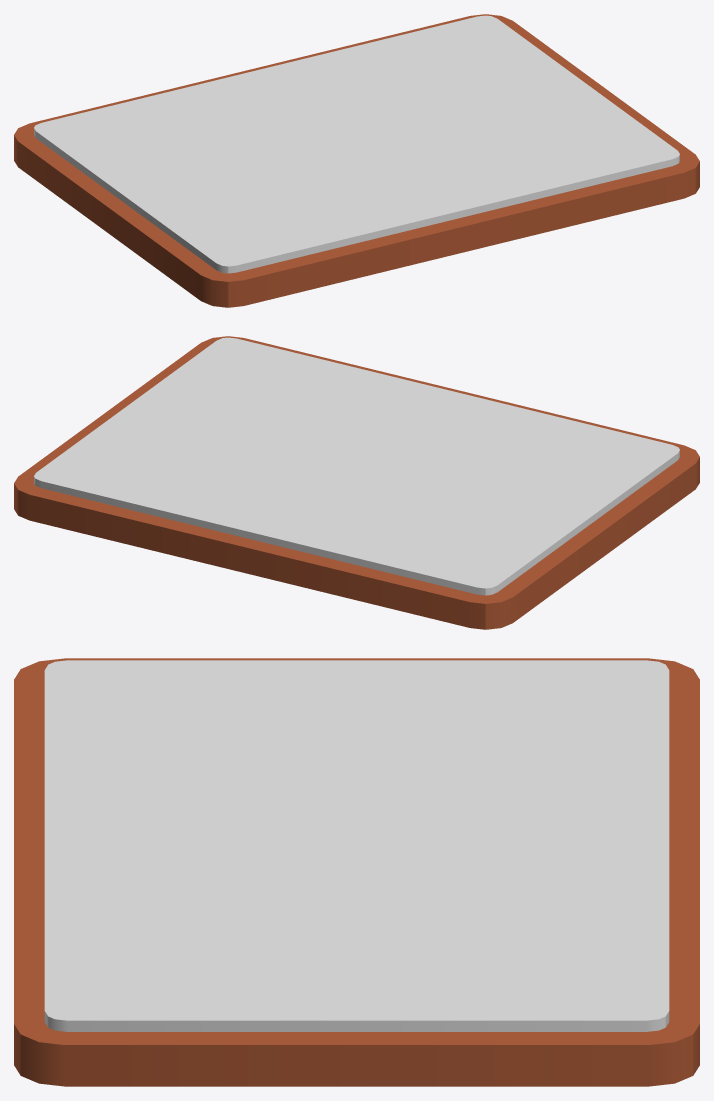
The model's file is SM_CocktailMenu.fbx.
3 renders of one model, top to bottom at view 1: azimuth 30°, elevation 25°; view 2: azimuth 150°, elevation 25°; view 3: azimuth 270°, elevation 25°, orthographic. The views are drawn at different scales.
Visible parts, largest first — view 1: SM_CocktailMenu; view 2: SM_CocktailMenu; view 3: SM_CocktailMenu.
Boxes of the visible parts, x1,y1,x2,y2 form: SM_CocktailMenu: [14, 14, 699, 307]; SM_CocktailMenu: [14, 336, 699, 629]; SM_CocktailMenu: [14, 658, 699, 1086].
Size of the model in its own units: 40 by 2.54 by 30.
